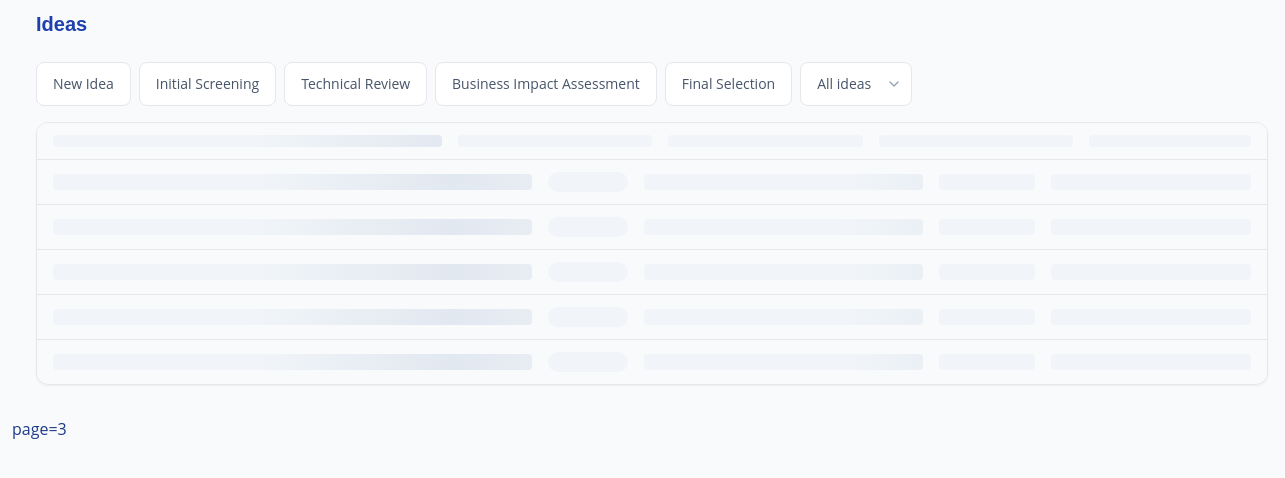
IdeasPage — mine filter › activating toggle sets mine=1 in URL and resets page to 1
Select "My ideas" in the dropdown named "scope" at (856, 84), box [800, 62, 912, 106]
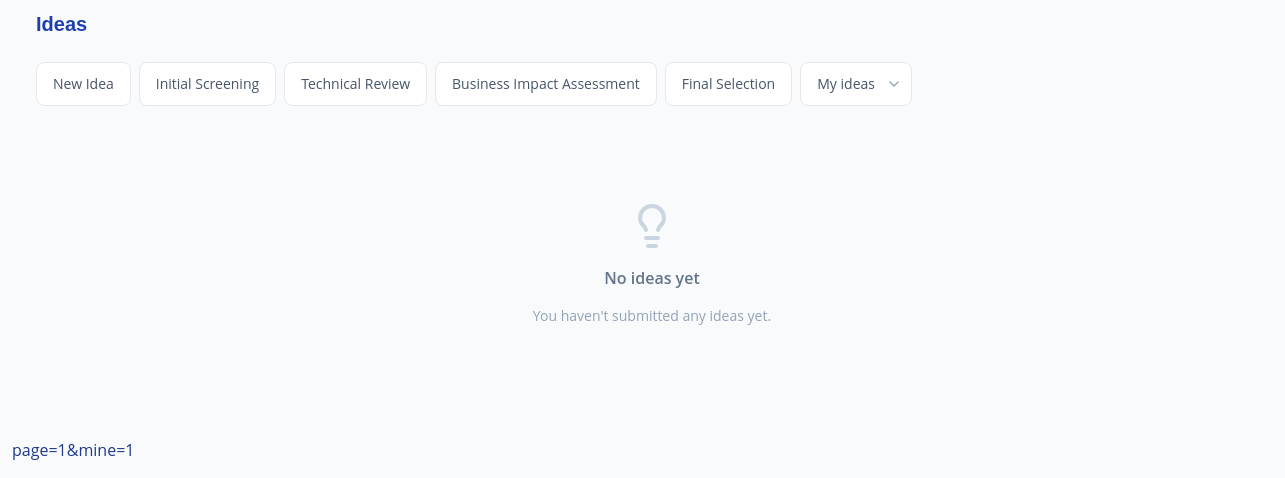
Now the text with test id "search-params" shows "mine=1", box [12, 439, 134, 461]
Now the text with test id "search-params" shows "page=1", box [12, 439, 134, 461]
Now the text with test id "search-params" no longer shows "page=3"
